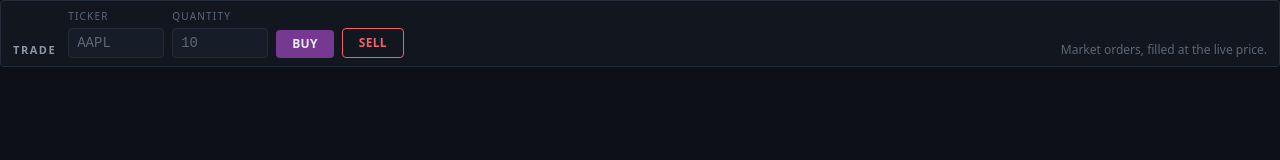
Test: TradeBar › refuses a symbol the server would reject, without a round trip
The width and height of the screenshot is (1280, 160).
In the field labelled "Ticker": (116, 43) [68,28,164,58], type "SPY500!!"
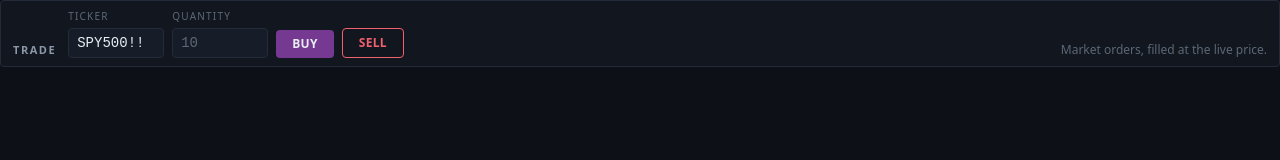
In the number field labelled "Quantity": (220, 43) [172,28,268,58], type "1"
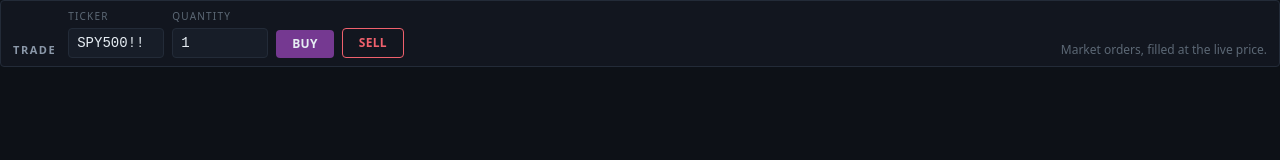
Click the button "Buy": (305, 44) [276,30,334,58]
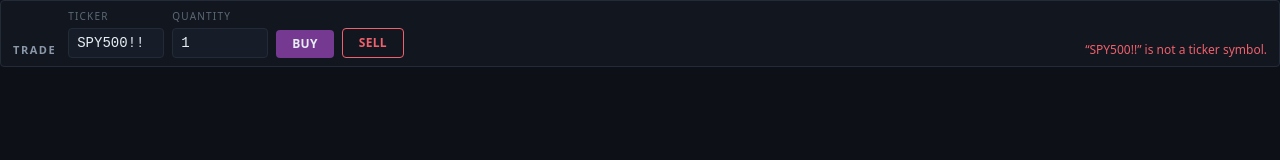
Now the message shows "is not a ticker symbol", box [1085,41,1267,58]
